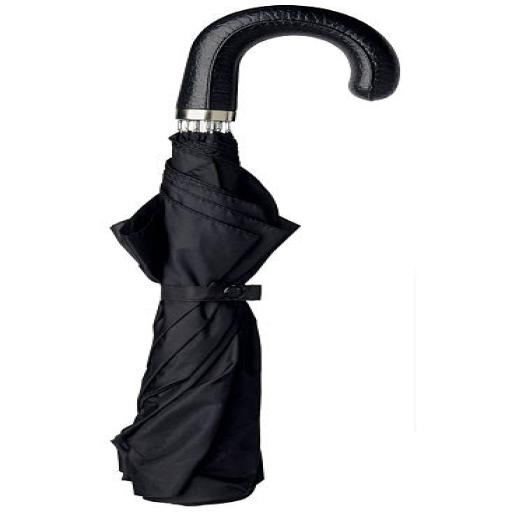guarda_chuva: (108, 3, 400, 506)
